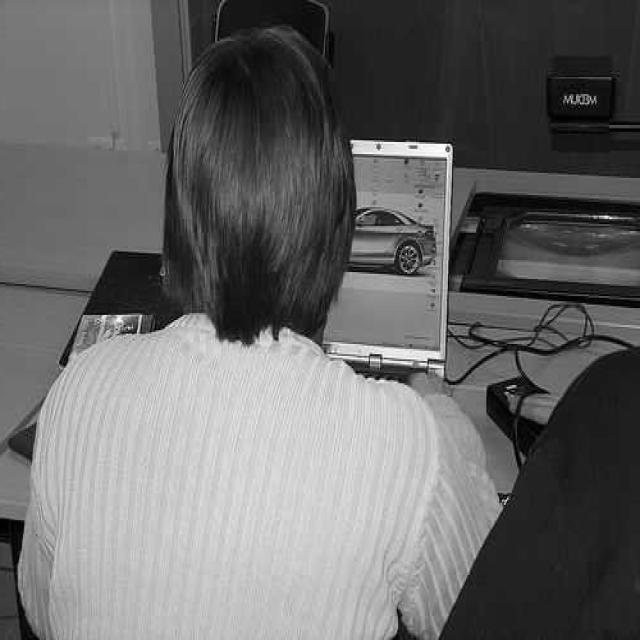laptop: (200, 142, 456, 384)
